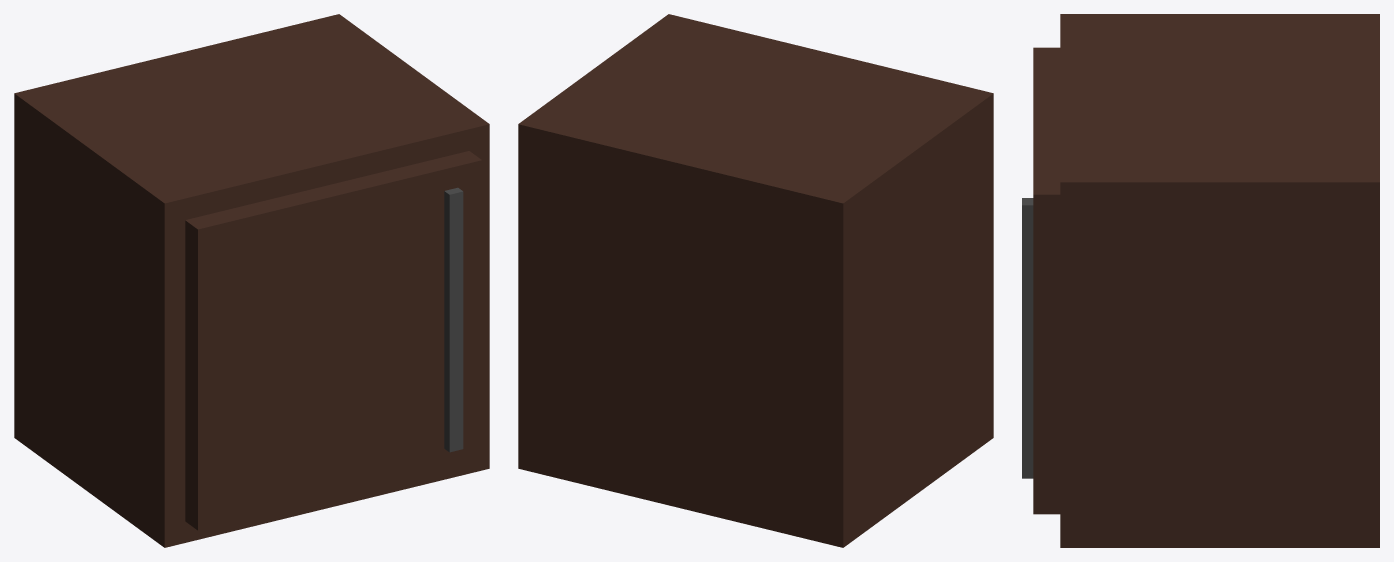
The model's file is cabinet.fbx.
The picture shows the model from 3 angles, left to right: view 1: azimuth 30°, elevation 25°; view 2: azimuth 150°, elevation 25°; view 3: azimuth 270°, elevation 25°; orthographic projection. The views are drawn at different scales.
Visible parts, largest first — view 1: Cube; view 2: Cube; view 3: Cube.
Part boxes in pixels (x1=…): Cube: x1=14, y1=14, x2=489, y2=547; Cube: x1=518, y1=14, x2=993, y2=547; Cube: x1=1022, y1=14, x2=1379, y2=547.
Size of the model in its own units: 326 by 330 by 293.
